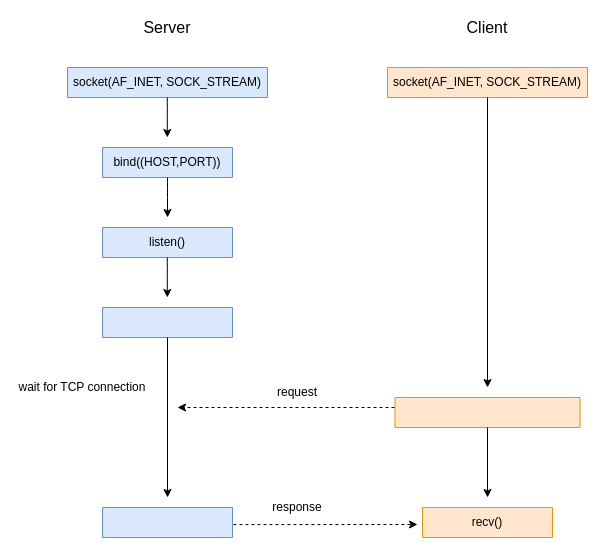
This 614x555 diagram has some shape labels left out. The centre of each missing label's shape, as x and y in pixels:
accept(): (x=167, y=322)
connect((HOST, PORT)): (x=487, y=412)
send timestamp(): (x=167, y=522)
